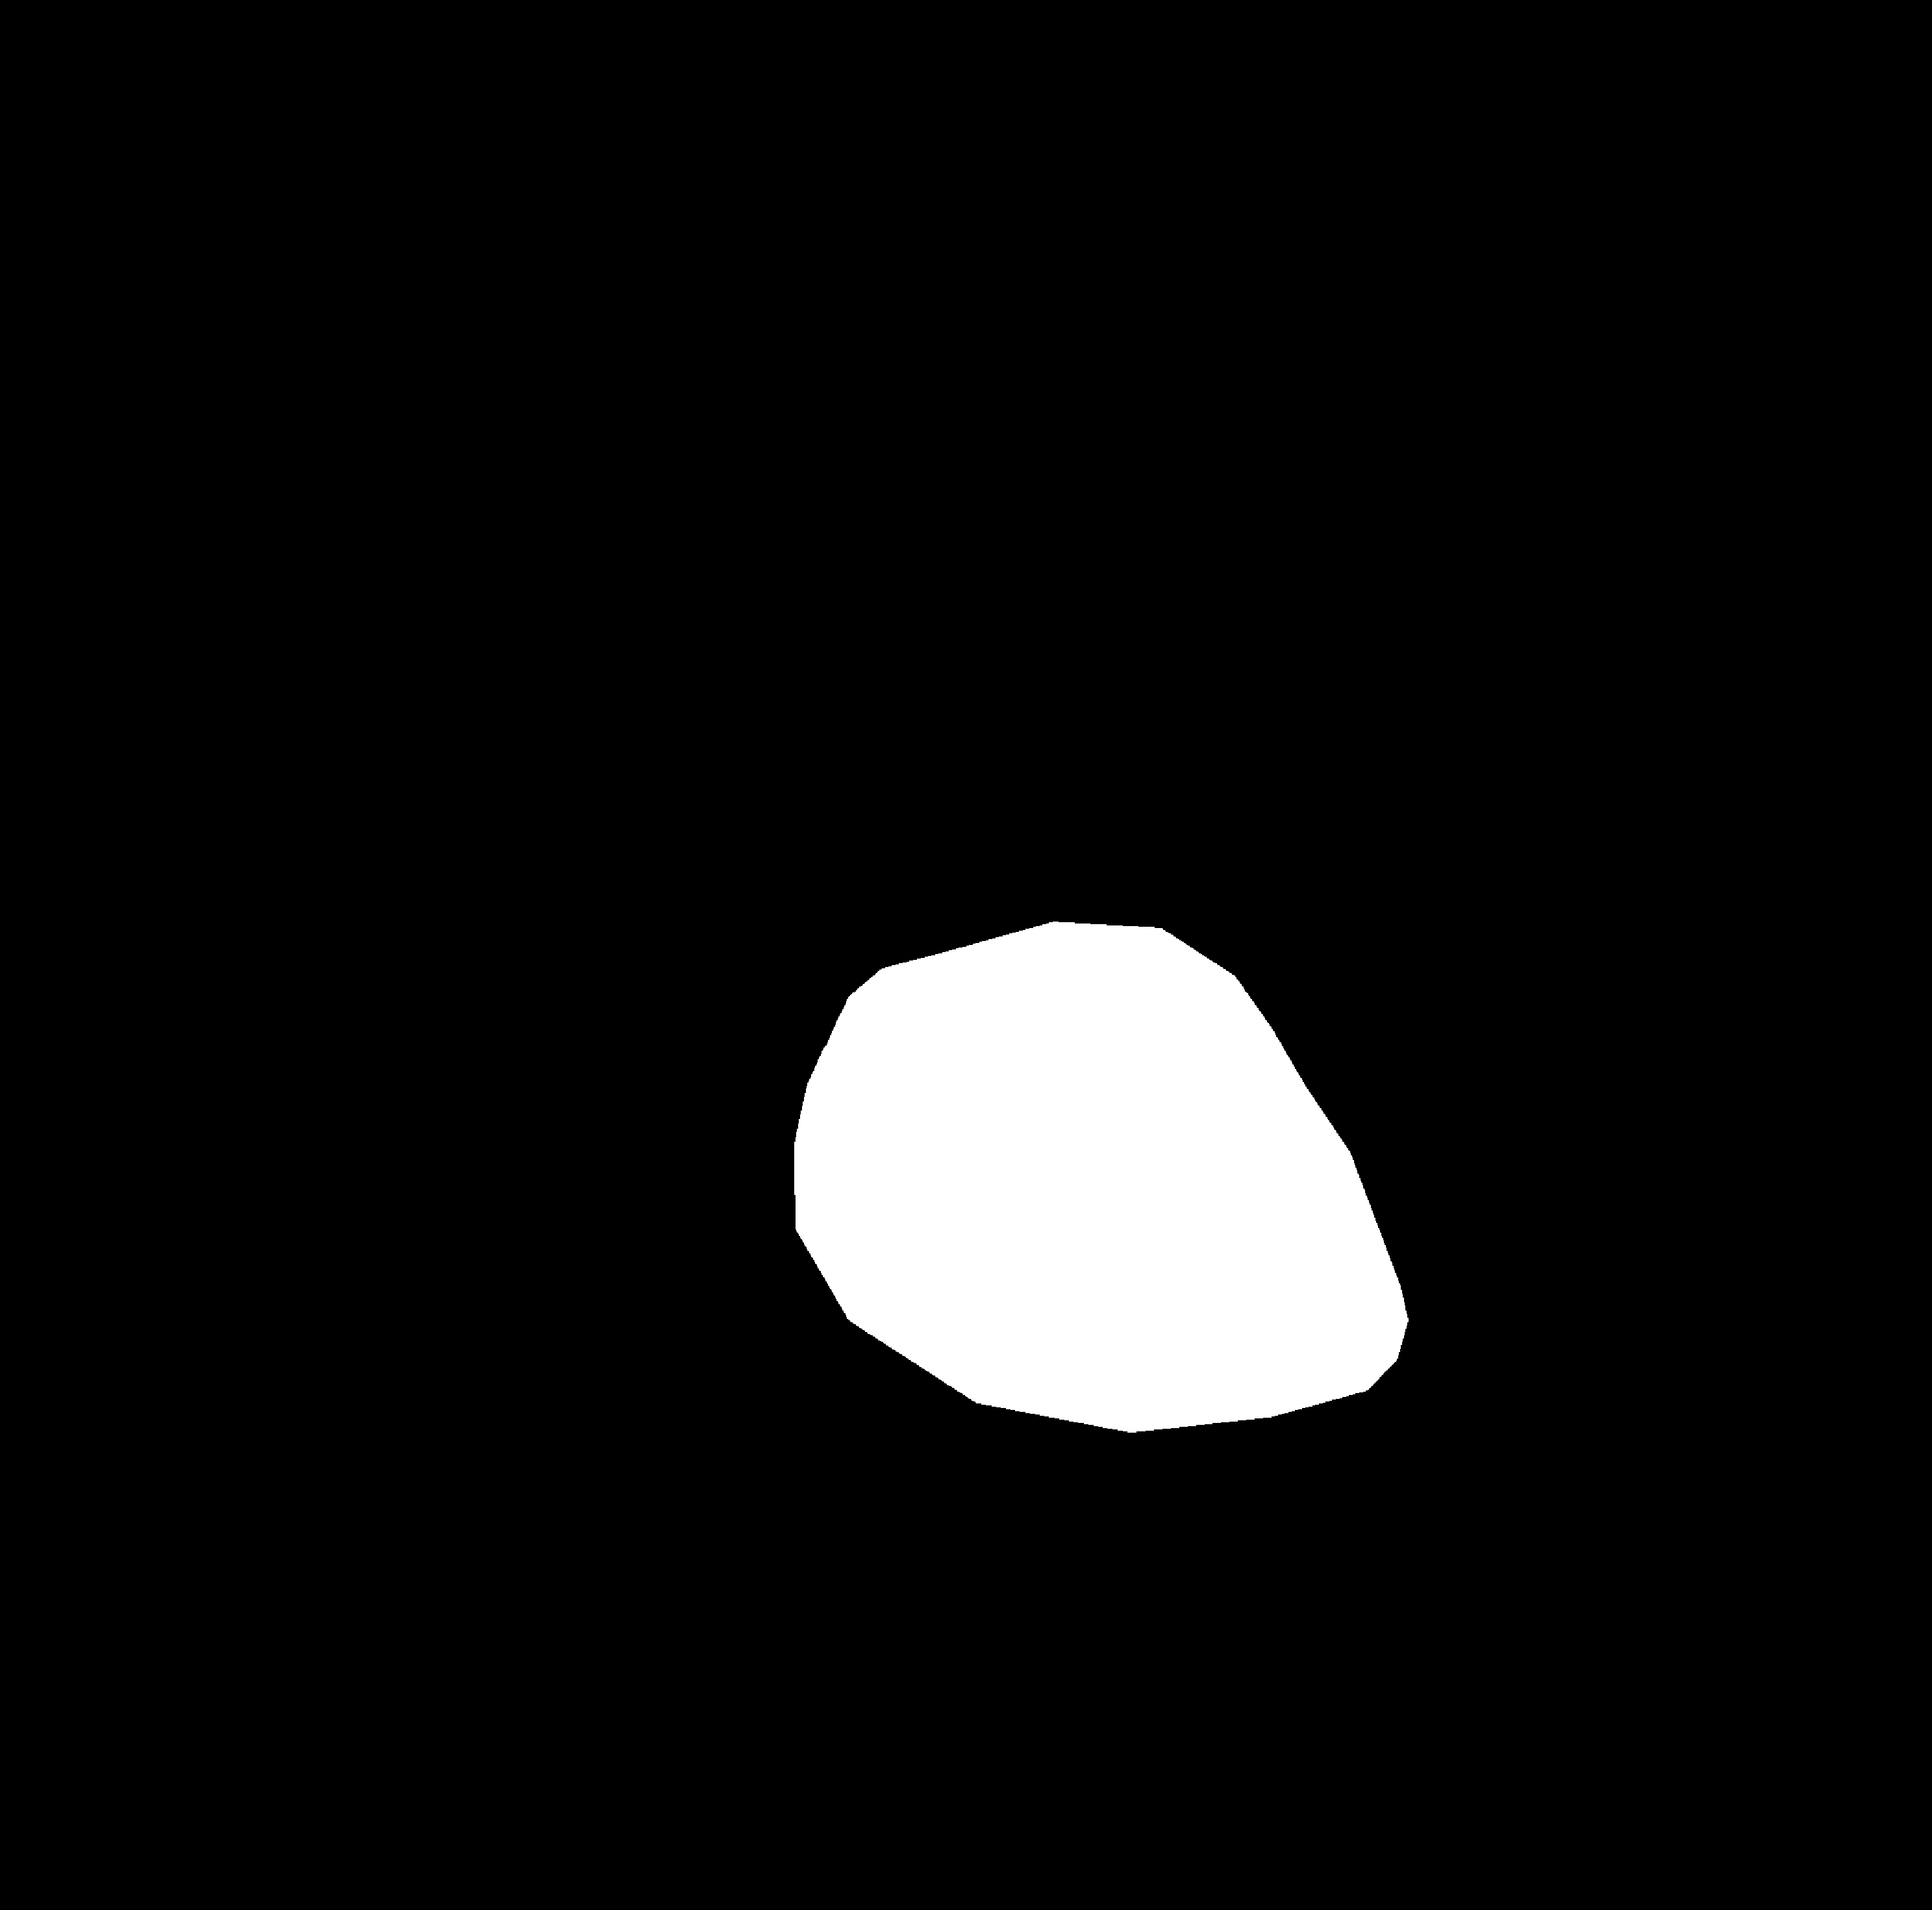heart: (790, 983, 1407, 1443)
left_lung: (243, 287, 883, 1681)
right_lung: (1033, 283, 1645, 1681)
